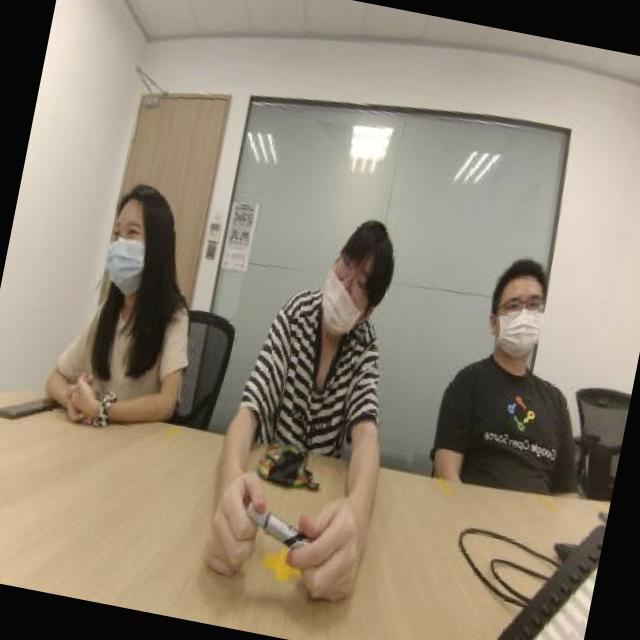Person: (245, 156, 426, 431), (61, 128, 234, 410), (452, 200, 610, 467)
